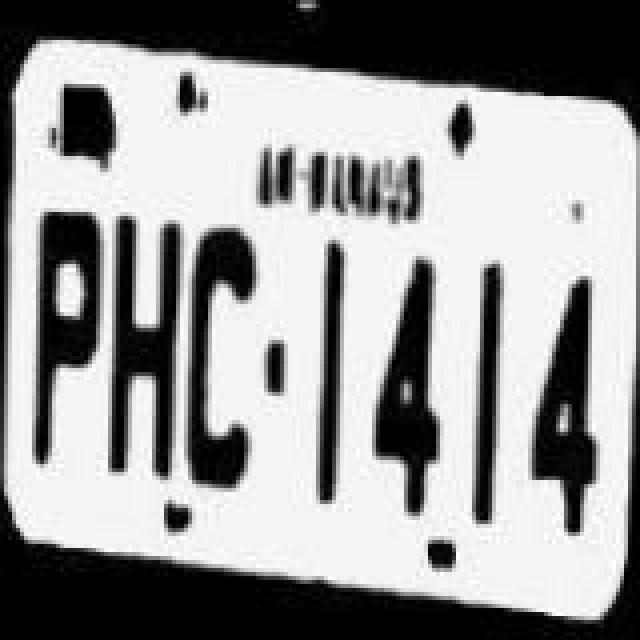1: (308, 224, 360, 516), (468, 248, 516, 532)
4: (524, 248, 612, 536), (372, 252, 452, 524)
C: (188, 222, 272, 498)
H: (106, 206, 186, 482)
P: (28, 206, 112, 474)
